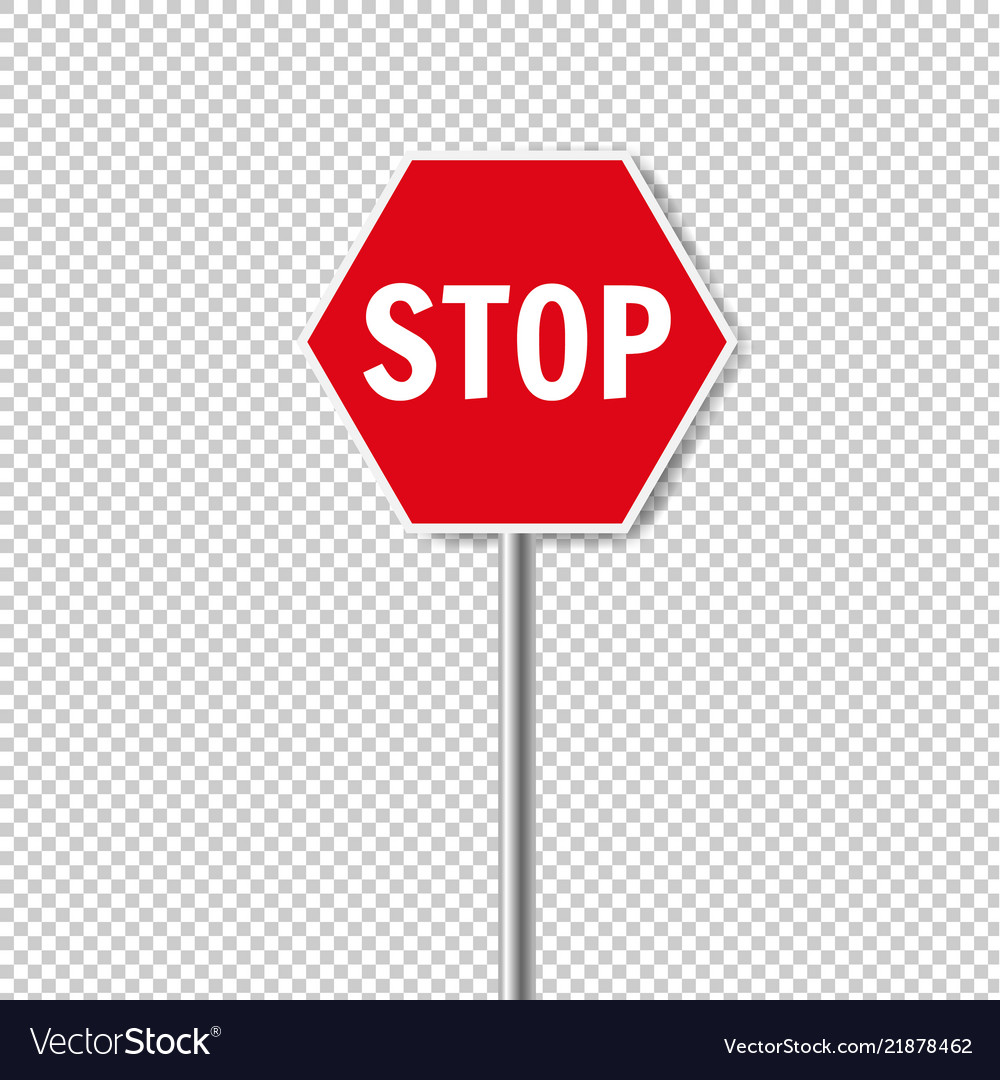stopsign: (318, 156, 726, 533)
